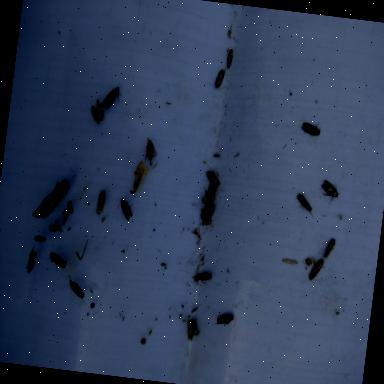abw: (31, 160, 78, 225), (129, 160, 151, 196)
pbw: (292, 190, 317, 222), (315, 177, 342, 205), (113, 194, 137, 224), (64, 276, 88, 304), (100, 84, 124, 111), (206, 64, 228, 92), (297, 118, 324, 140), (142, 136, 160, 168), (23, 242, 38, 276), (210, 312, 238, 330), (307, 256, 324, 284), (47, 248, 68, 270), (202, 168, 222, 190), (197, 197, 215, 221), (94, 186, 108, 215), (322, 235, 336, 263), (87, 103, 103, 125), (184, 318, 198, 343), (222, 46, 234, 72), (193, 271, 213, 286), (64, 199, 74, 215), (31, 234, 47, 243)
